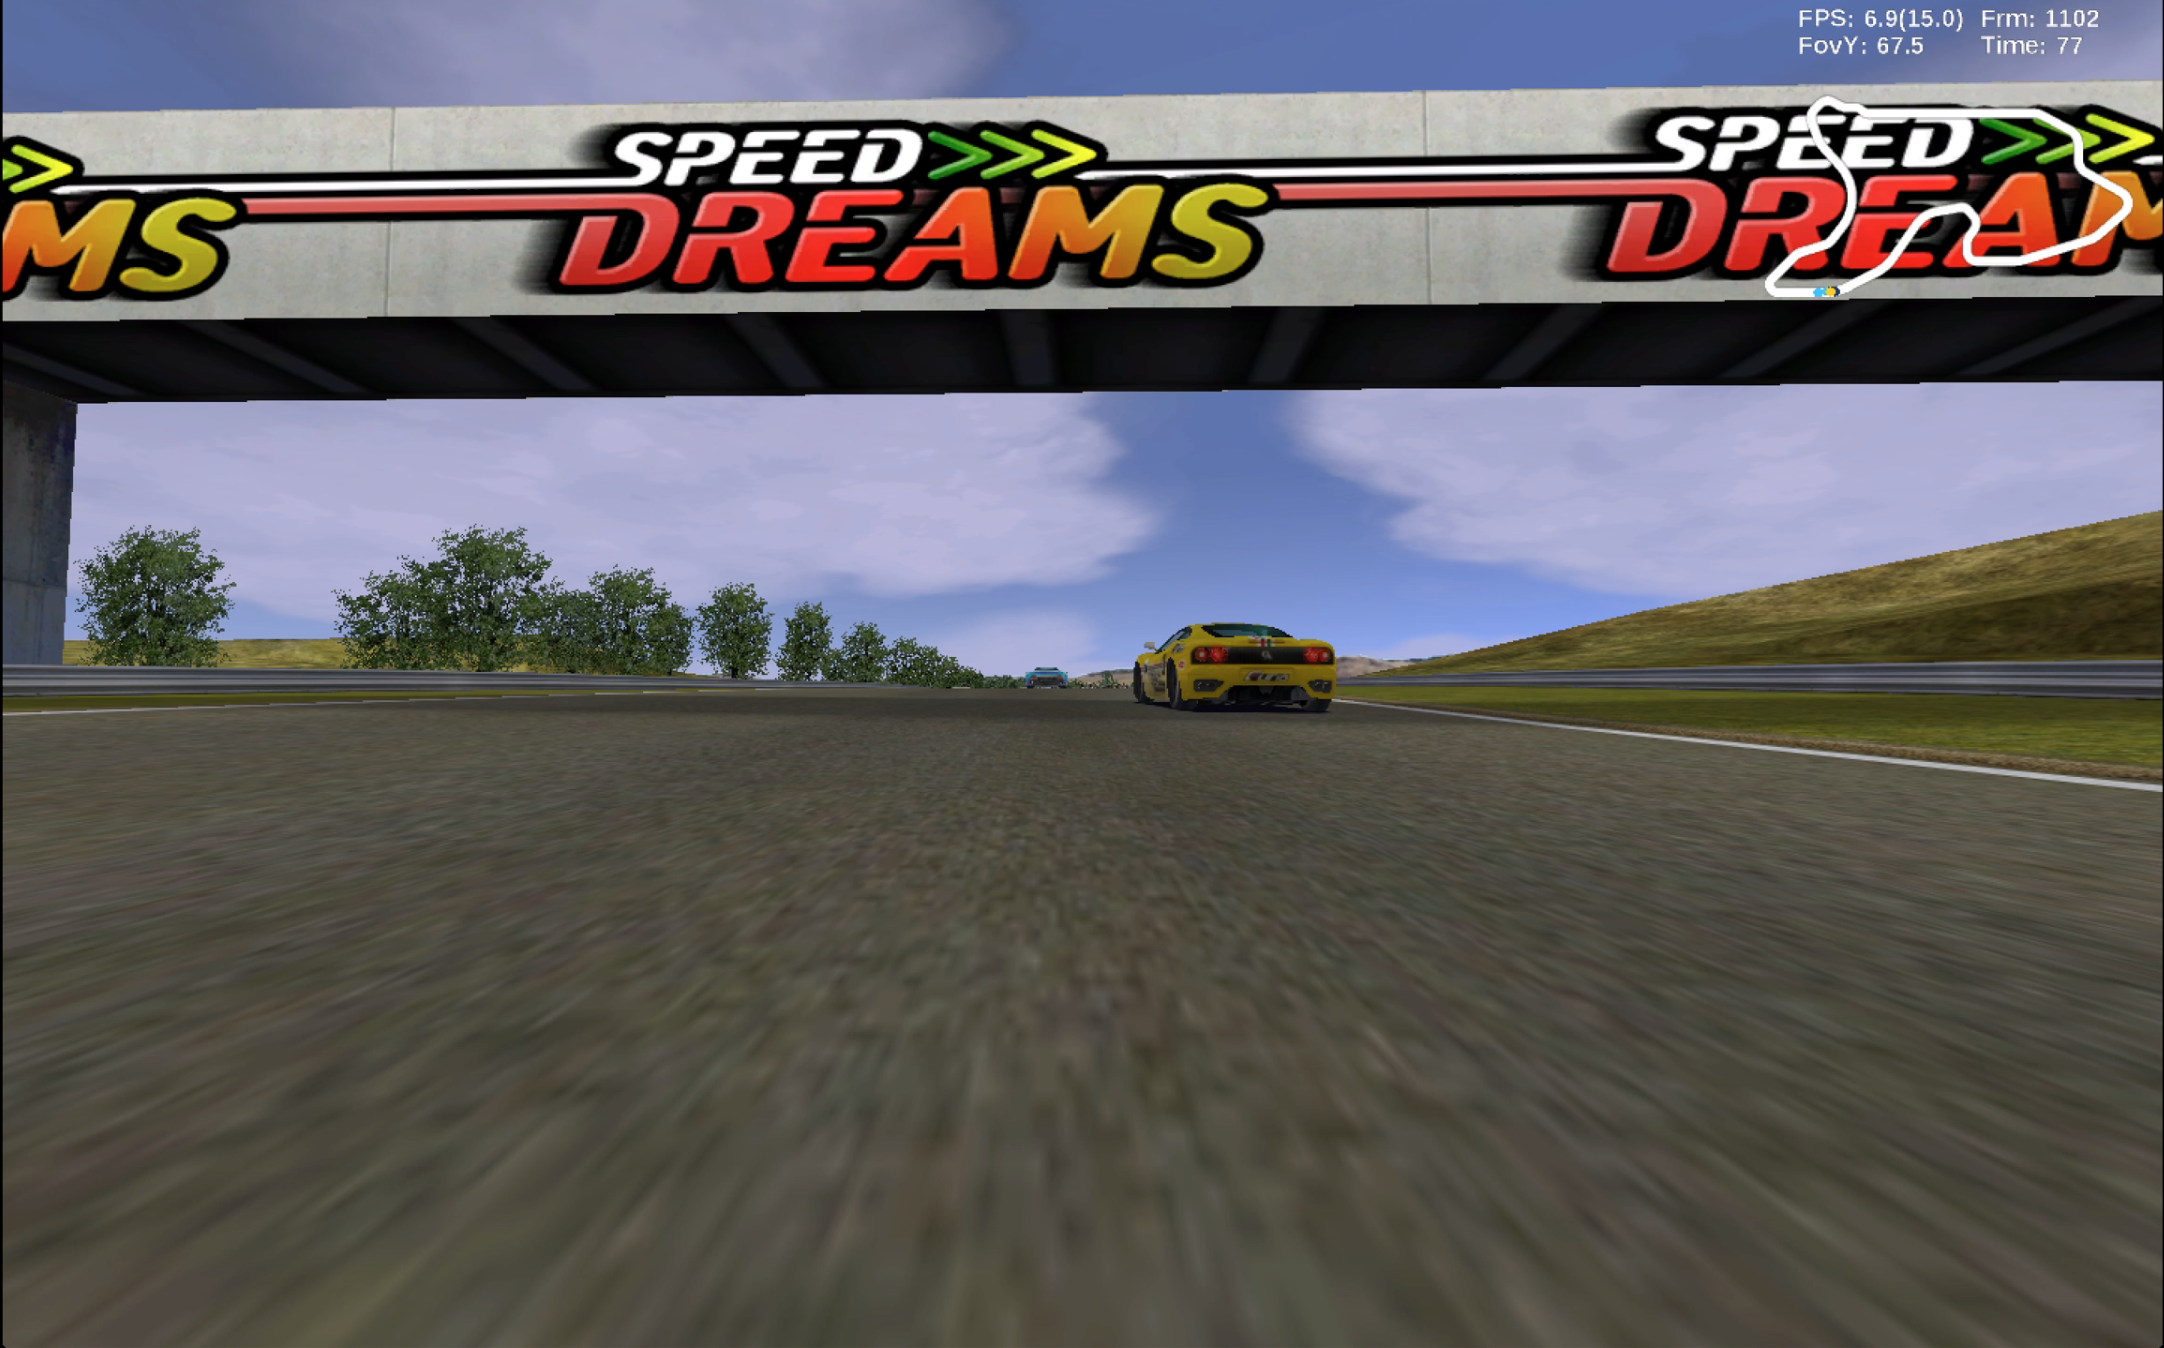Cavallo360: (1132, 621, 1337, 714)
Lynx220: (1028, 666, 1070, 690)
